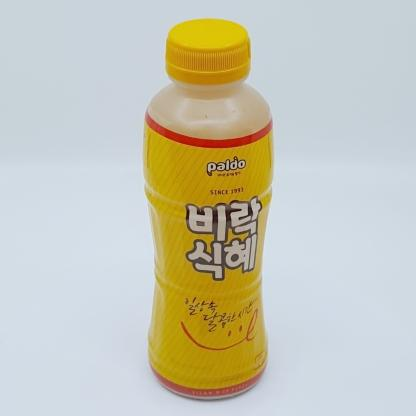------500ML: (143, 18, 275, 401)
